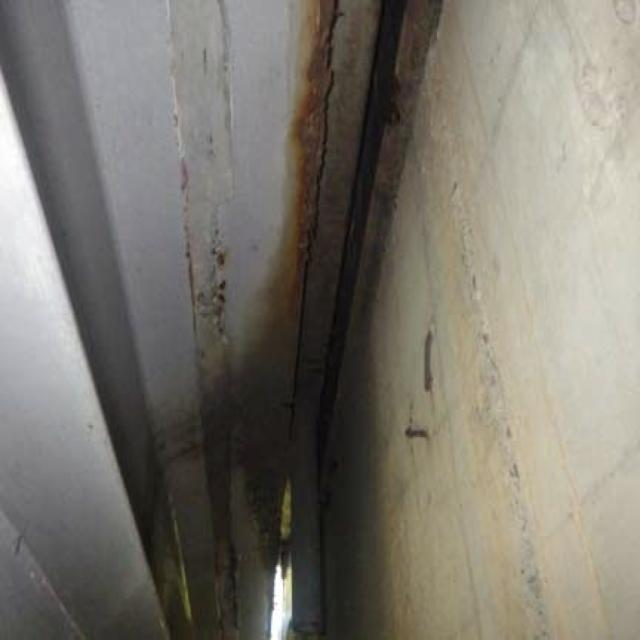corrosion: (270, 7, 421, 434)
